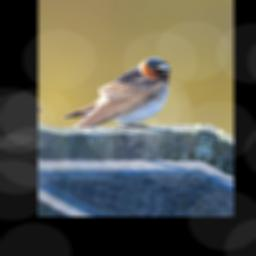Swallow: (60, 38, 176, 151)
